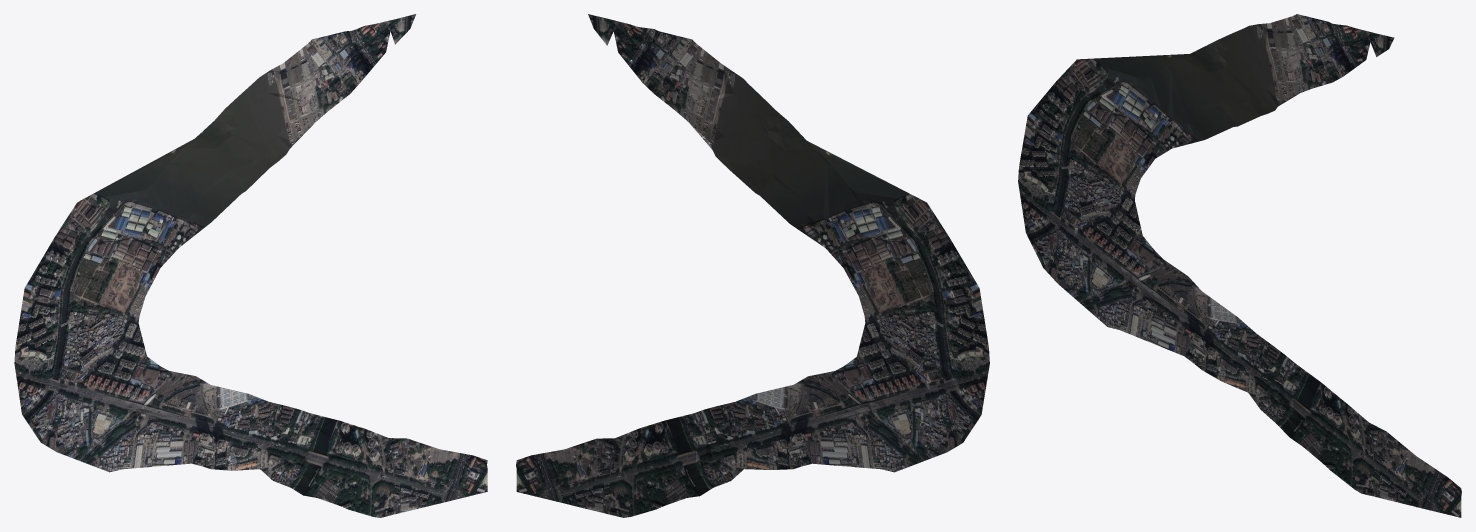
3 views of the same model, side by side, from view 1: azimuth 30°, elevation 25°; view 2: azimuth 150°, elevation 25°; view 3: azimuth 330°, elevation 25° (orthographic). The views are drawn at different scales.
Visible parts, largest first — view 1: 0_3_0_0; view 2: 0_3_0_0; view 3: 0_3_0_0.
Part boxes in pixels (box(x1,y1,x2,y2)): 0_3_0_0: box(14, 14, 487, 517); 0_3_0_0: box(516, 14, 989, 517); 0_3_0_0: box(1018, 14, 1461, 517).
Bounding box in the file's own units: 1945 × 1945 × 23.5.
1 material, 1 textured.
